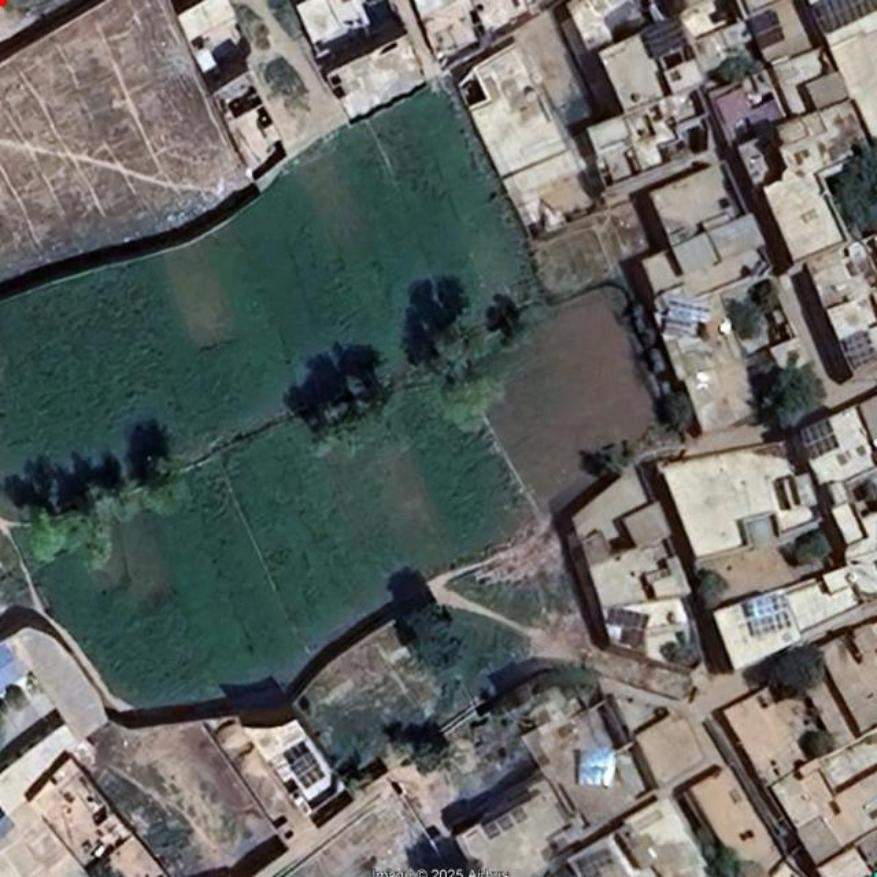Solarpanel: (743, 593, 790, 638), (814, 0, 876, 34), (643, 15, 688, 61), (800, 420, 837, 459), (578, 750, 617, 783), (842, 330, 875, 368), (745, 10, 780, 37), (668, 303, 711, 324), (754, 28, 786, 51)
